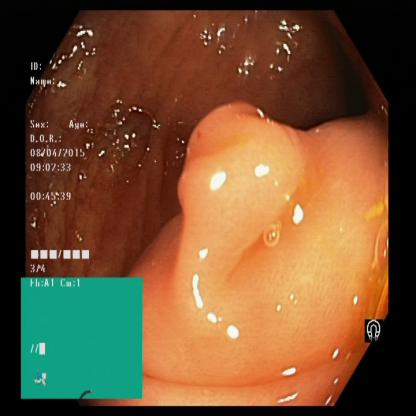Labels: (29, 56, 101, 274), (21, 278, 143, 396), (361, 308, 394, 352)
Polyps: (168, 85, 323, 278)
